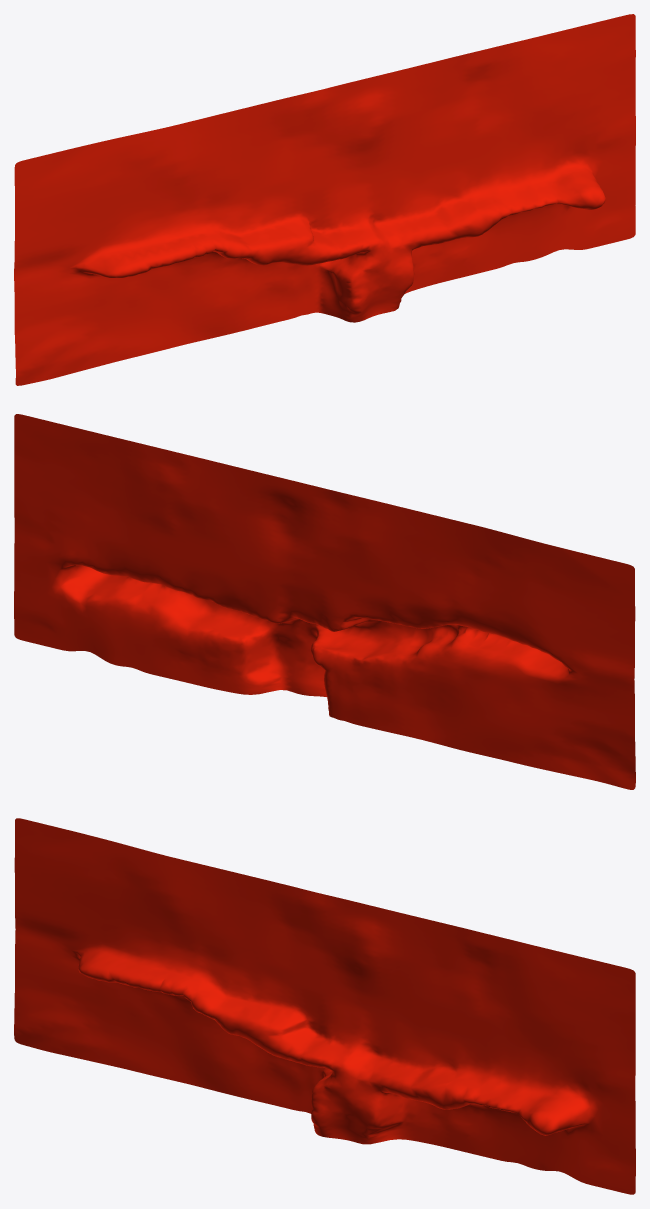
The model's file is cueva 3.1GaB.fbx.
3 views of the same model, one above another, from view 1: azimuth 30°, elevation 25°; view 2: azimuth 150°, elevation 25°; view 3: azimuth 330°, elevation 25° (orthographic).
Visible parts, largest first — view 1: Plane.001; view 2: Plane.001; view 3: Plane.001.
Boxes of the visible parts, bbox=[...] form: Plane.001: bbox=[14, 14, 635, 385]; Plane.001: bbox=[14, 414, 635, 789]; Plane.001: bbox=[14, 818, 635, 1194].
Bounding box in the file's own units: 1518 × 17227 × 5982.
